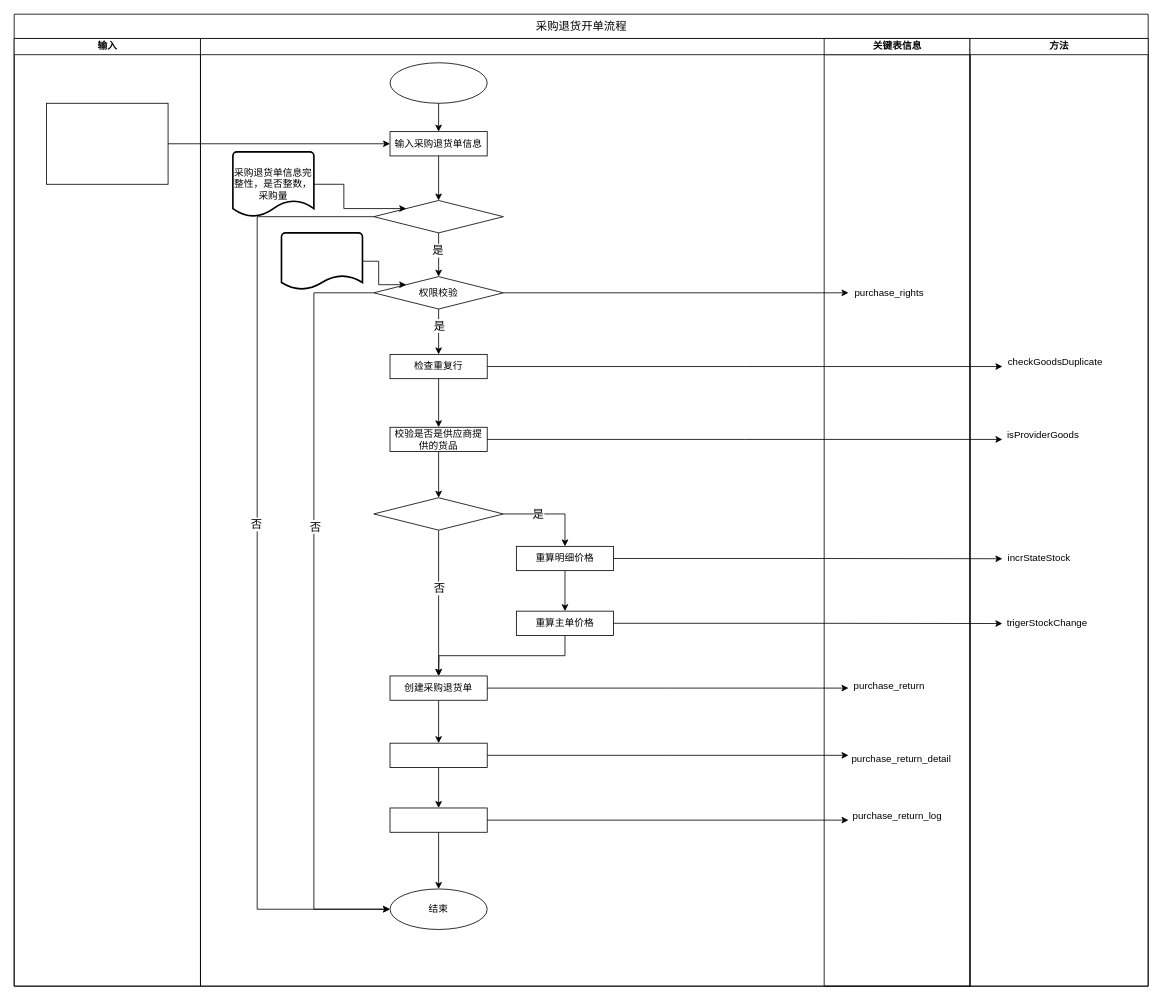
The diagram is 1162 pixels wide and 1000 high, and some of its shapes have lost their labels. The centre of each missing label's shape, as x and y in pixels:
1、采购退货开单页面手动录入 2、引用采购单 3、采购退货货品导入 4、采购退货混色商品导入: the point at 107,143
创建采购退货单日志: the point at 438,819
创建采购退货单明细: the point at 438,754
开始: the point at 438,82
数据合法性校验: the point at 438,216
有无采购价字段权限: the point at 438,513
采购权限，供应商权限: the point at 321,261
